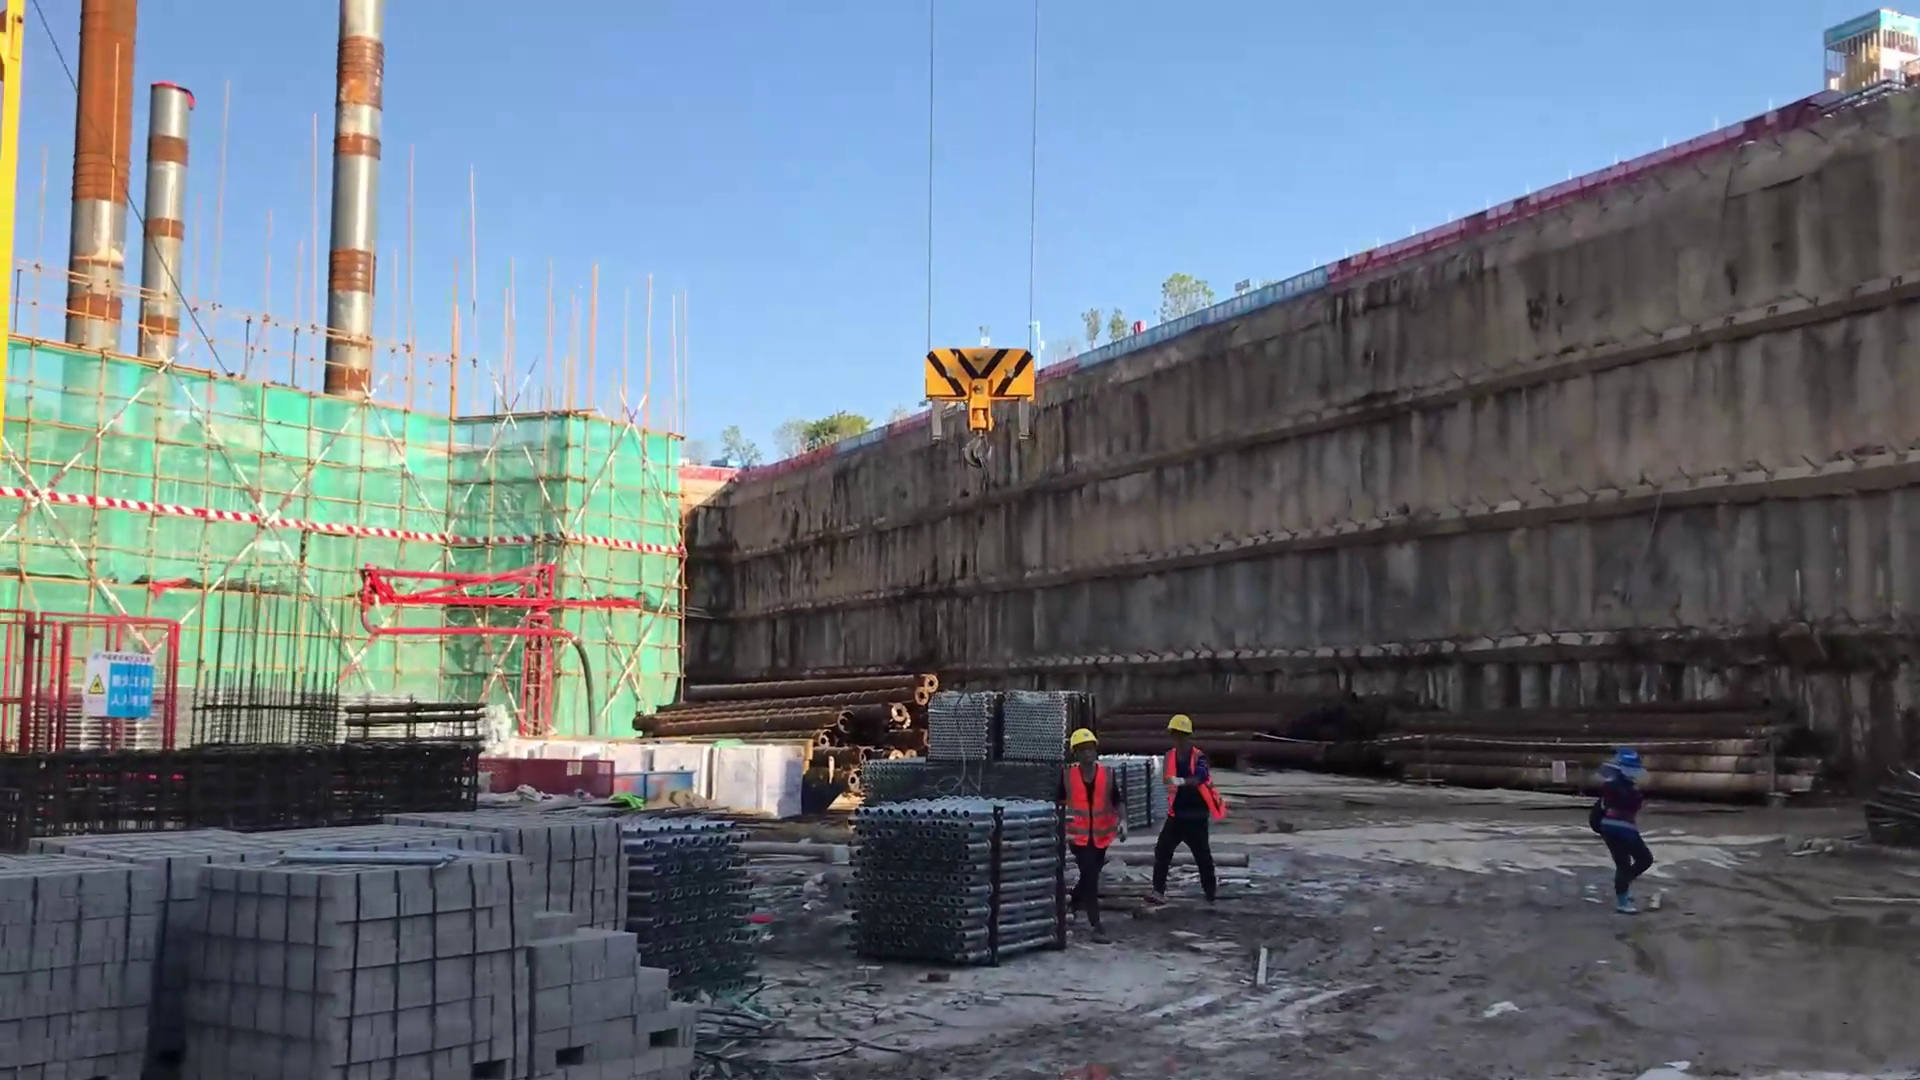brick: (4, 810, 678, 1080)
helmet: (1156, 704, 1202, 742), (1059, 718, 1104, 750), (1602, 735, 1643, 766)
hook: (923, 346, 1038, 433)
person: (1151, 707, 1227, 915), (1585, 743, 1674, 915), (1059, 726, 1120, 938)
scaffold: (840, 784, 1071, 954)
vest: (1059, 754, 1116, 856), (1162, 743, 1229, 822)
